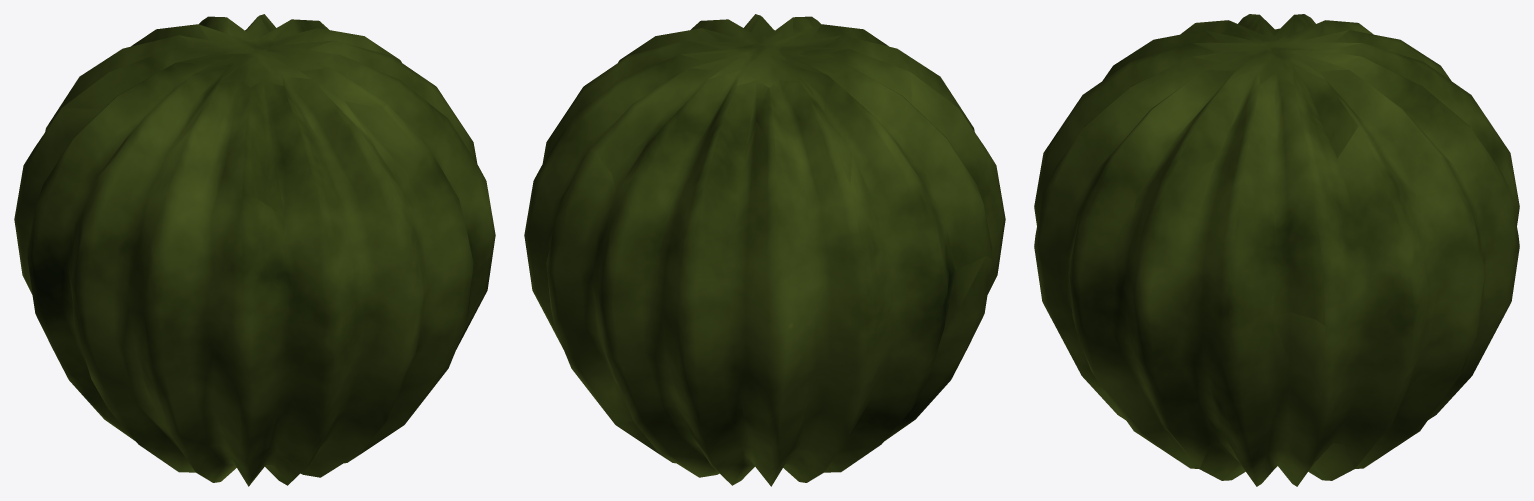
The model's file is ball cactus.fbx.
3 views of the same model, side by side, from view 1: azimuth 30°, elevation 25°; view 2: azimuth 150°, elevation 25°; view 3: azimuth 270°, elevation 25° (orthographic).
Visible parts, largest first — view 1: Cactus Ball1; view 2: Cactus Ball1; view 3: Cactus Ball1.
Part boxes in pixels (x1,y1,x2,y2): Cactus Ball1: (14, 14, 495, 486); Cactus Ball1: (524, 14, 1005, 486); Cactus Ball1: (1034, 14, 1519, 486).
Bounding box in the file's own units: 253 × 240 × 260.
